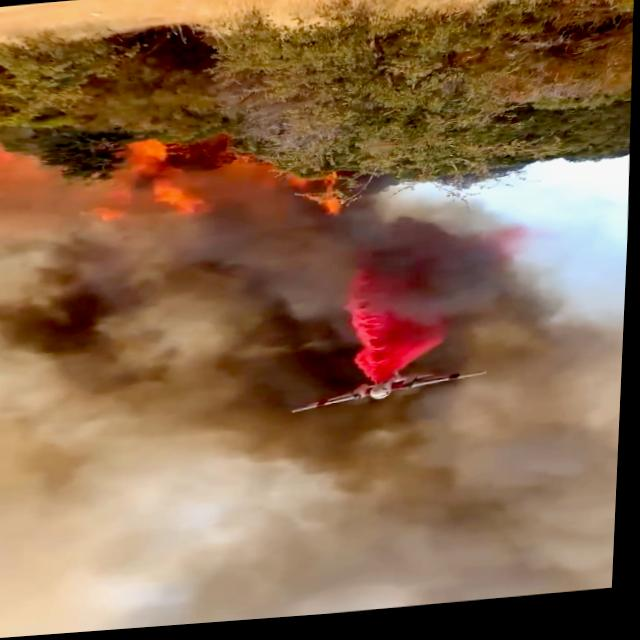no_helmet: (0, 205, 311, 509), (270, 377, 626, 623)
